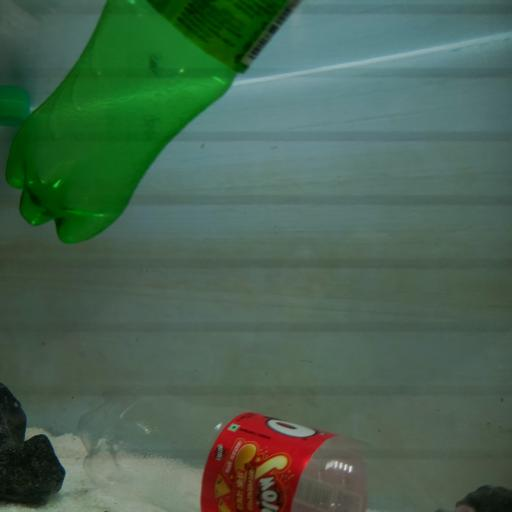bottle_cap: (0, 99, 31, 122)
plastic_bottle: (0, 0, 302, 246), (78, 388, 457, 512)
